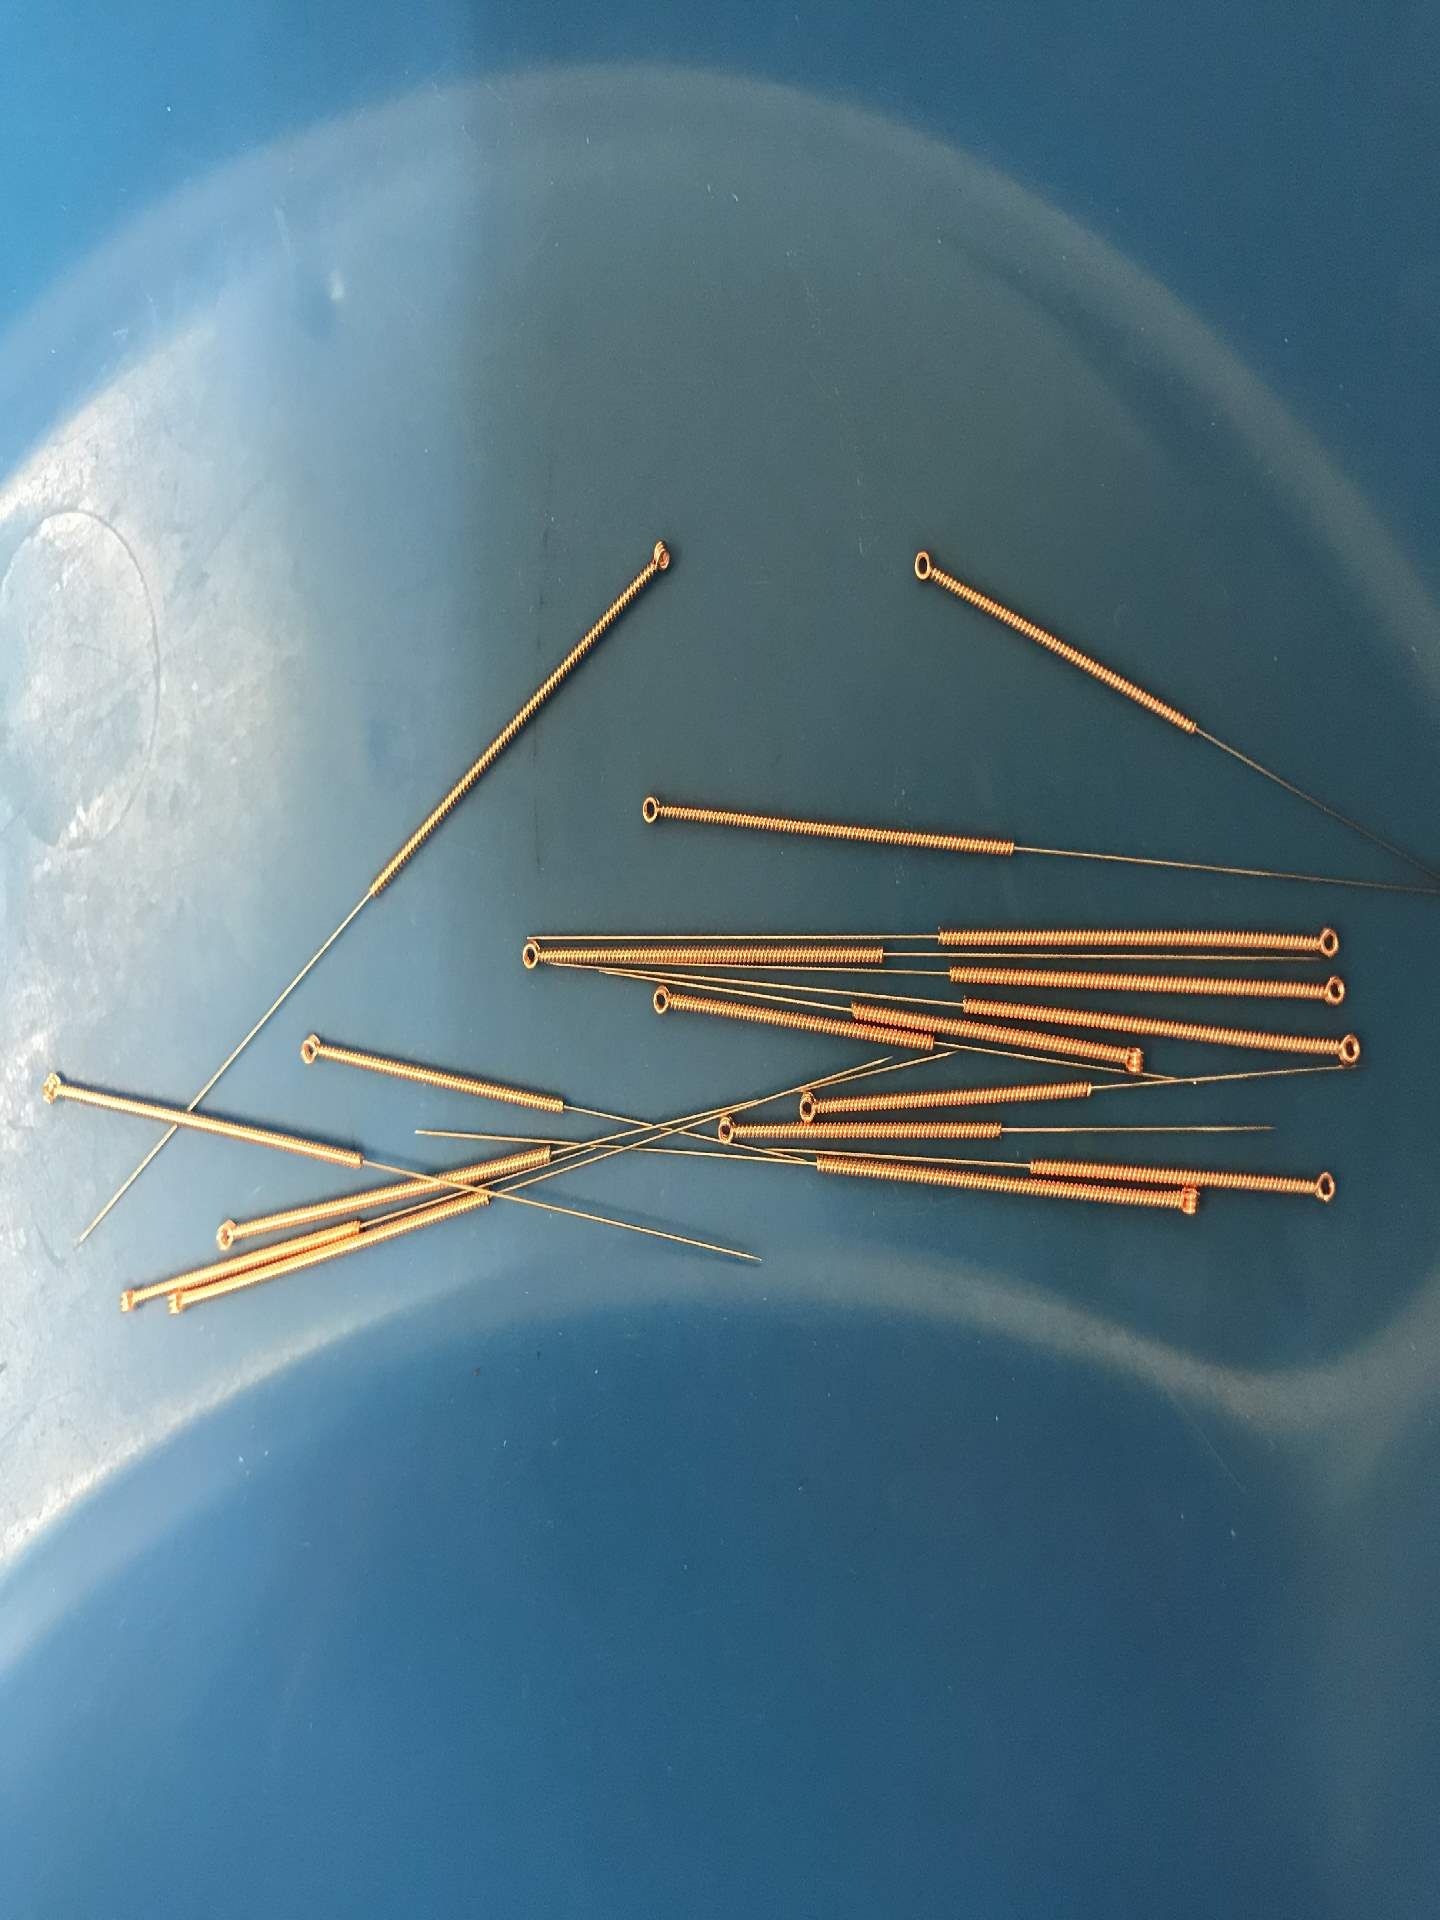needle: (1301, 1163, 1343, 1215), (1308, 968, 1354, 1014), (631, 785, 672, 836), (905, 541, 945, 590), (1305, 918, 1346, 963), (1328, 1028, 1367, 1073), (638, 534, 676, 581), (292, 1027, 330, 1073), (513, 934, 554, 977), (709, 1110, 750, 1152), (1168, 1178, 1206, 1223), (35, 1064, 73, 1110), (207, 1212, 245, 1258), (1115, 1039, 1153, 1082), (791, 1085, 829, 1129), (644, 981, 681, 1020), (109, 1281, 144, 1321), (162, 1287, 194, 1323)
